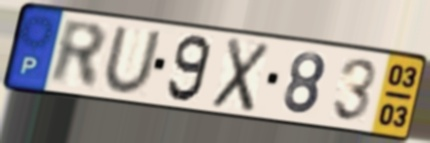3: (332, 57, 379, 123)
8: (282, 50, 328, 117)
9: (166, 33, 215, 104)
R: (48, 16, 109, 92)
U: (101, 25, 164, 97)
X: (208, 35, 273, 115)
